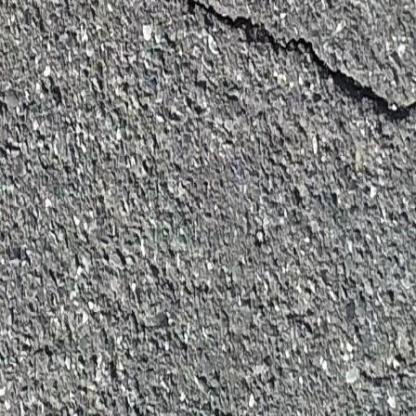Cracks: (167, 0, 416, 145)
